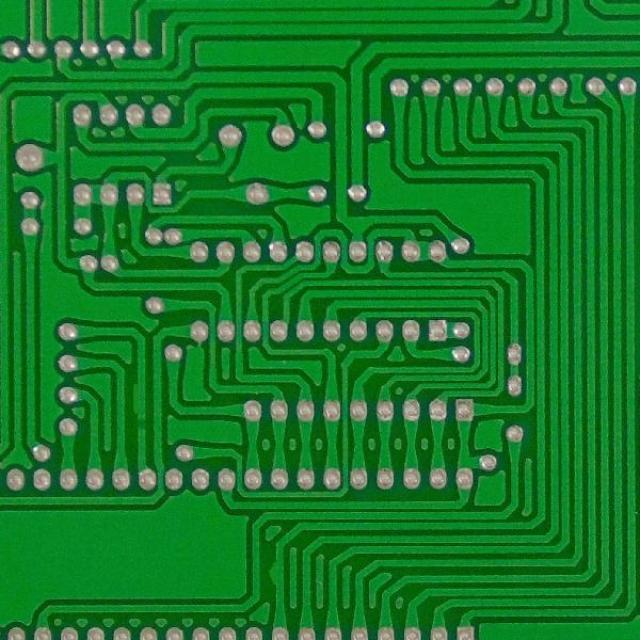Spur: (263, 554, 288, 590), (130, 379, 151, 418)
